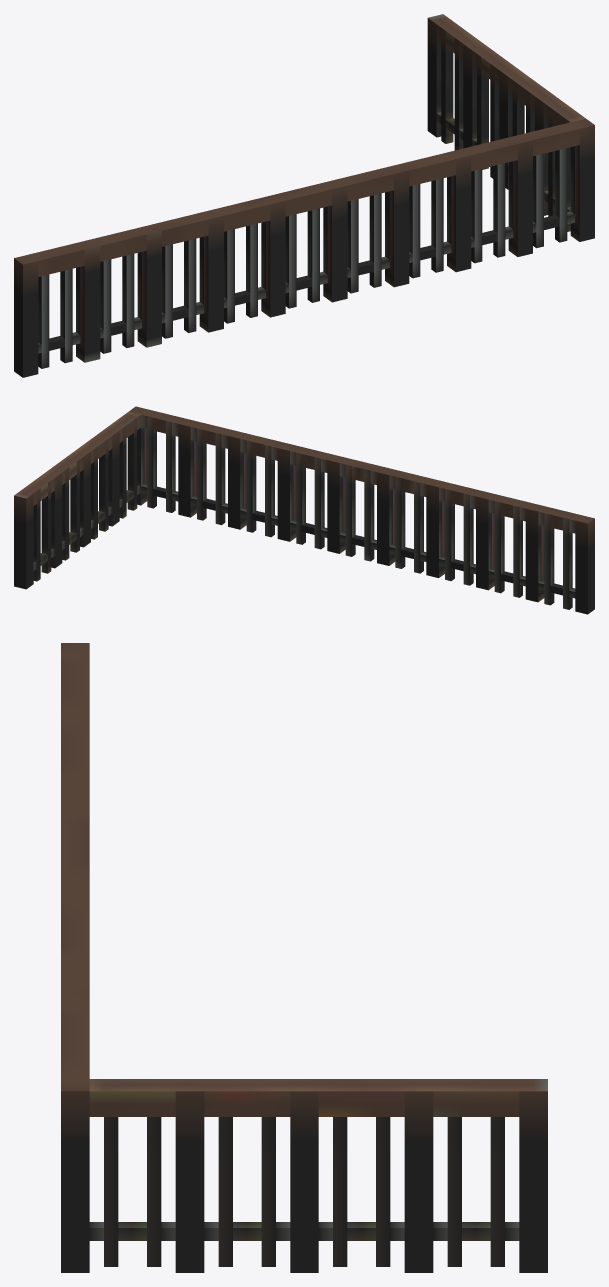
Rendered from BarrierStairCaseSmall_00.obj.
The picture shows the model from 3 angles, top to bottom: view 1: azimuth 30°, elevation 25°; view 2: azimuth 150°, elevation 25°; view 3: azimuth 270°, elevation 25°; orthographic projection. The views are drawn at different scales.
Visible parts, largest first — view 1: BarrierStairCaseSmall_00; view 2: BarrierStairCaseSmall_00; view 3: BarrierStairCaseSmall_00.
Boxes of the visible parts, left/top/right/bottom form: BarrierStairCaseSmall_00: left=14, top=14, right=594, bottom=377; BarrierStairCaseSmall_00: left=14, top=406, right=594, bottom=614; BarrierStairCaseSmall_00: left=61, top=643, right=547, bottom=1272.
Size of the model in its own units: 3.7 by 0.7 by 1.7.
